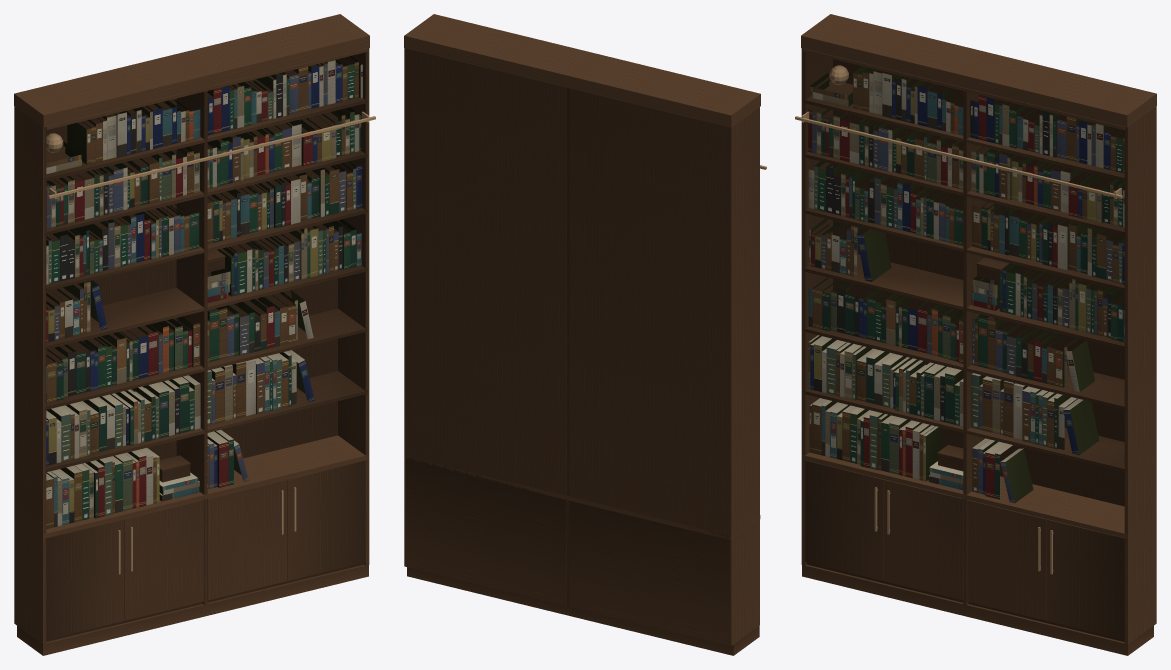
File: library_bookcase_a.gltf
3 renders of one model, left to right at view 1: azimuth 30°, elevation 25°; view 2: azimuth 150°, elevation 25°; view 3: azimuth 330°, elevation 25°, orthographic.
Parts seen in each view (by area): view 1: LibraryBookcaseA_Carcass, LibraryBookcaseA_Books, LibraryBookcaseA_Bronze; view 2: LibraryBookcaseA_Carcass; view 3: LibraryBookcaseA_Carcass, LibraryBookcaseA_Books, LibraryBookcaseA_Bronze.
Part boxes in pixels (left/top/right/bottom): LibraryBookcaseA_Carcass: left=14, top=14, right=369, bottom=655; LibraryBookcaseA_Books: left=46, top=56, right=362, bottom=529; LibraryBookcaseA_Bronze: left=46, top=111, right=375, bottom=574; LibraryBookcaseA_Carcass: left=404, top=14, right=760, bottom=655; LibraryBookcaseA_Carcass: left=801, top=14, right=1156, bottom=655; LibraryBookcaseA_Books: left=808, top=66, right=1124, bottom=503; LibraryBookcaseA_Bronze: left=795, top=65, right=1122, bottom=574.
Bounding box in the file's own units: 2.36 × 3.74 × 0.445.
Materials: 3 (2 with a texture image).
